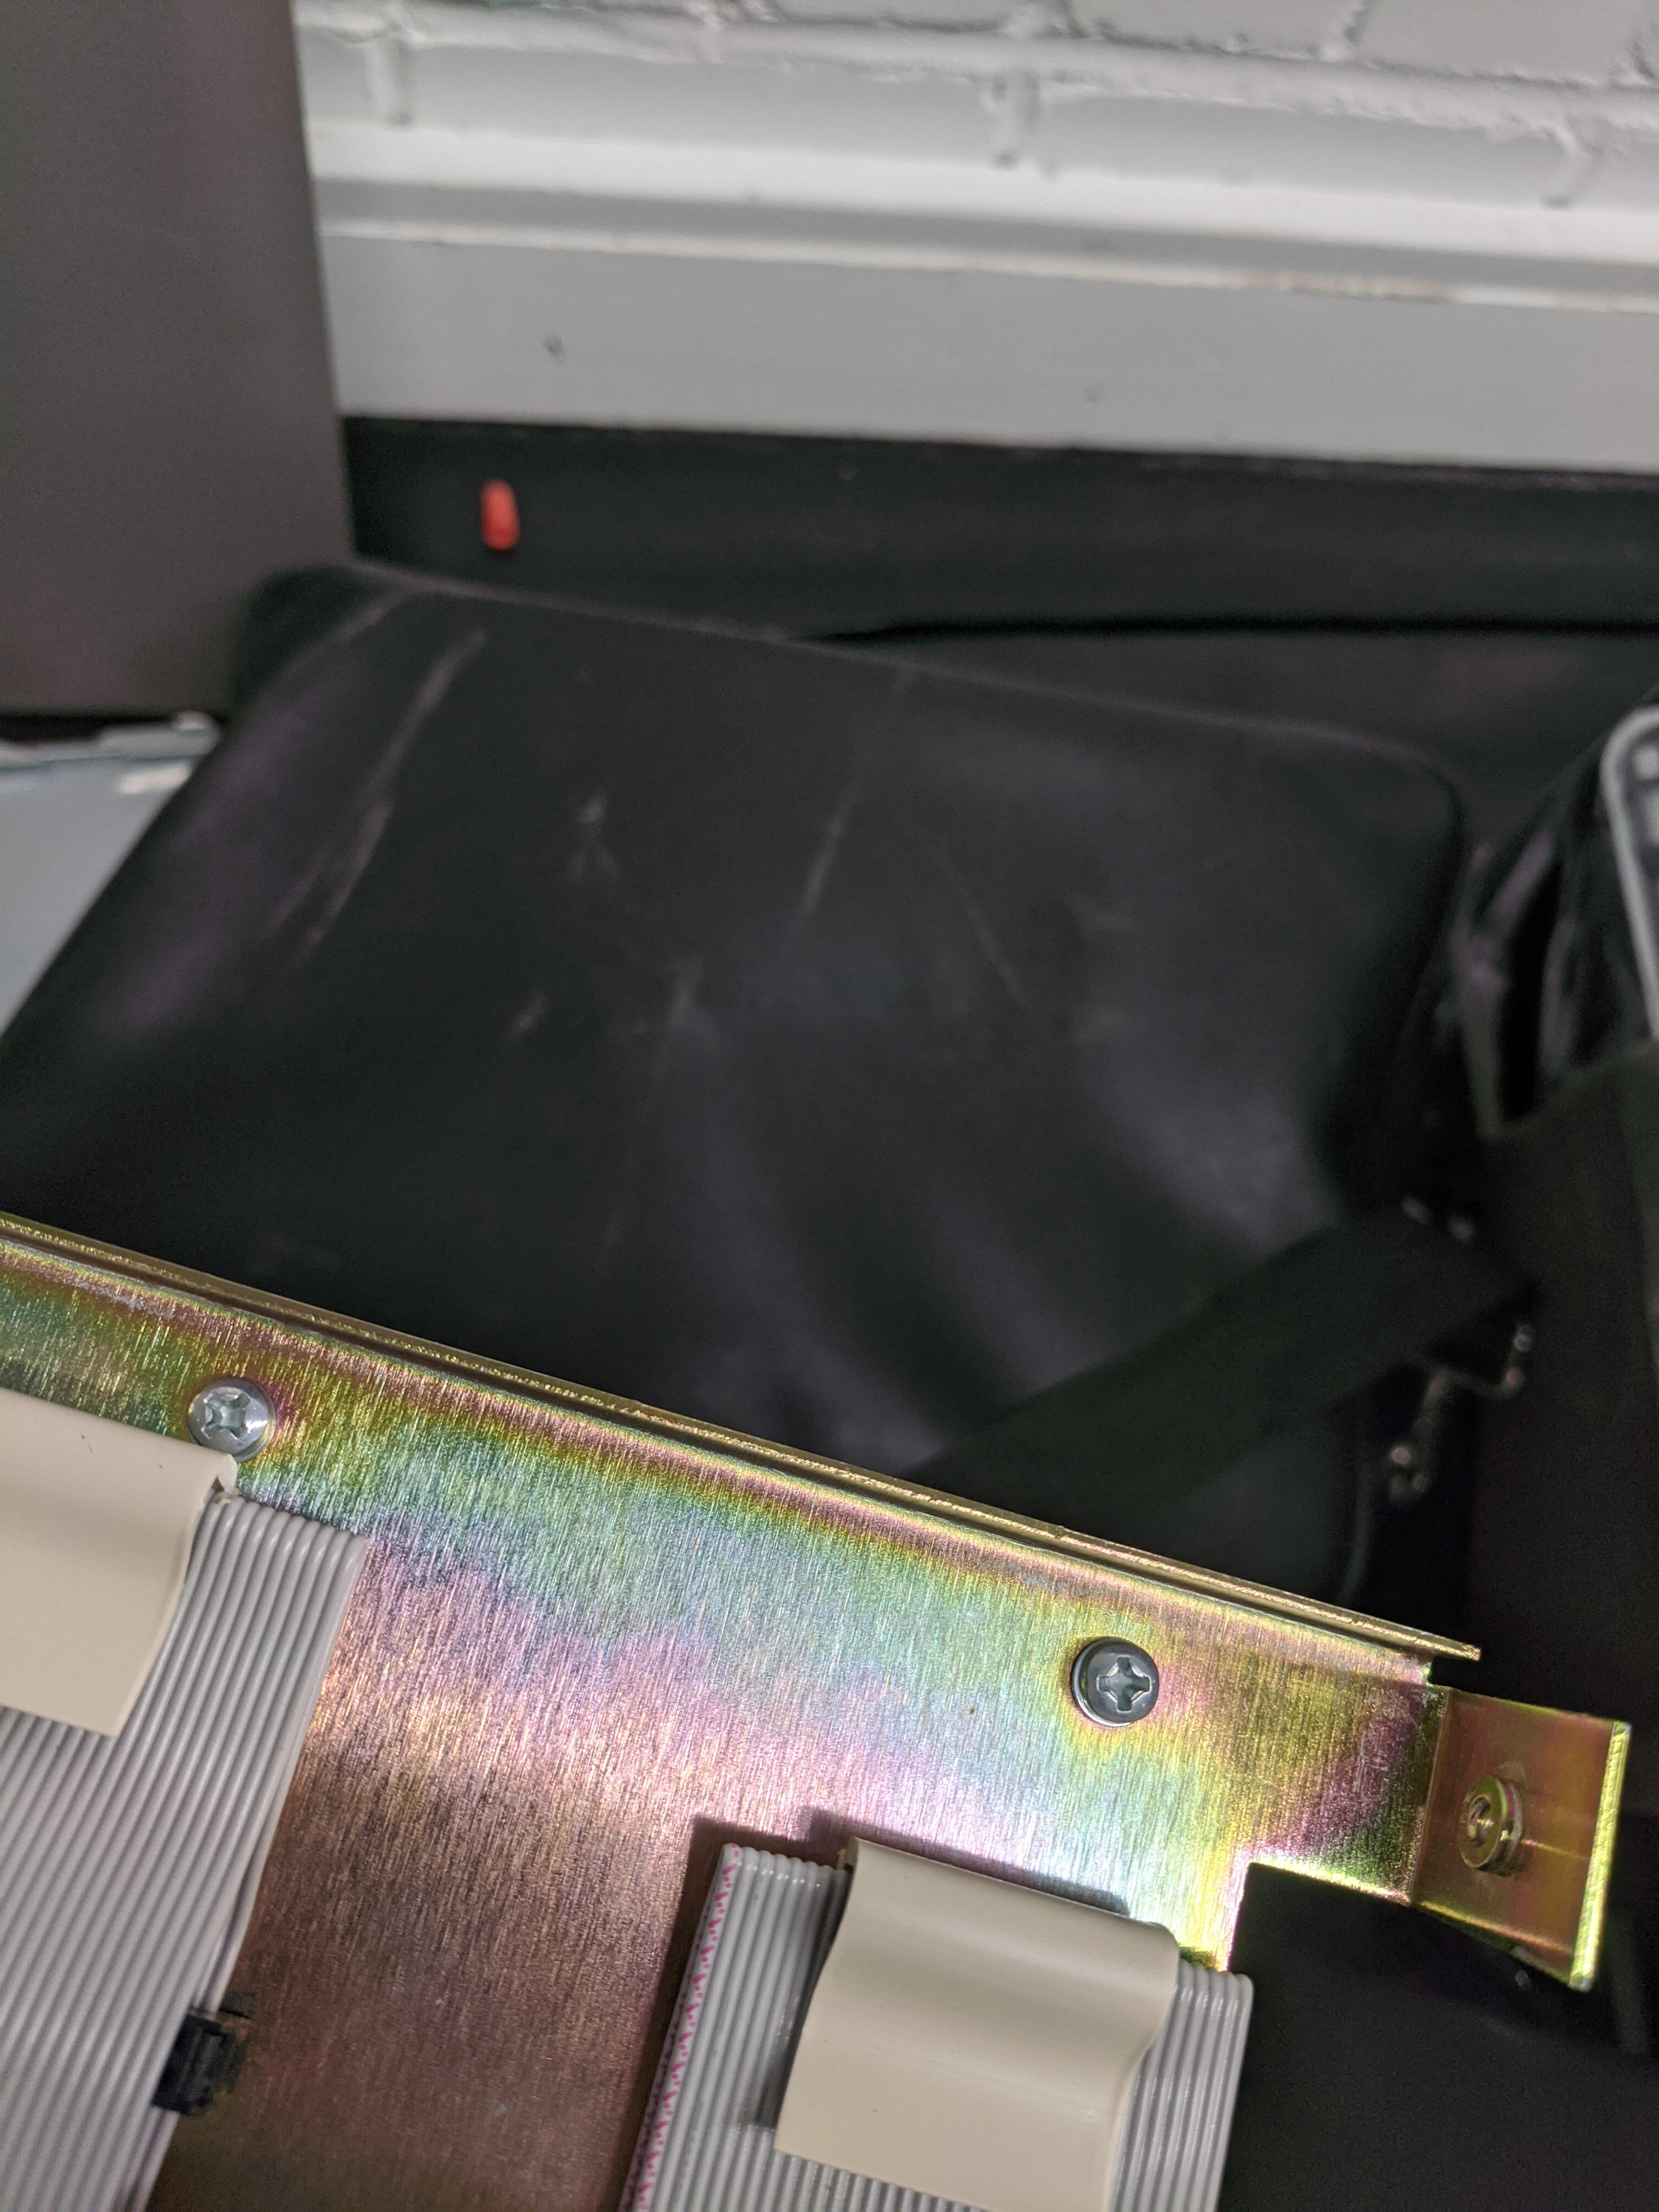cross_recessed_screw: (1070, 1623, 1159, 1733), (179, 1367, 275, 1454)
